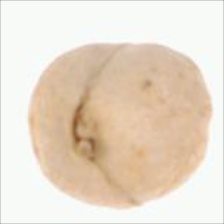L3: (69, 93, 105, 170)
L4: (27, 43, 214, 209)
